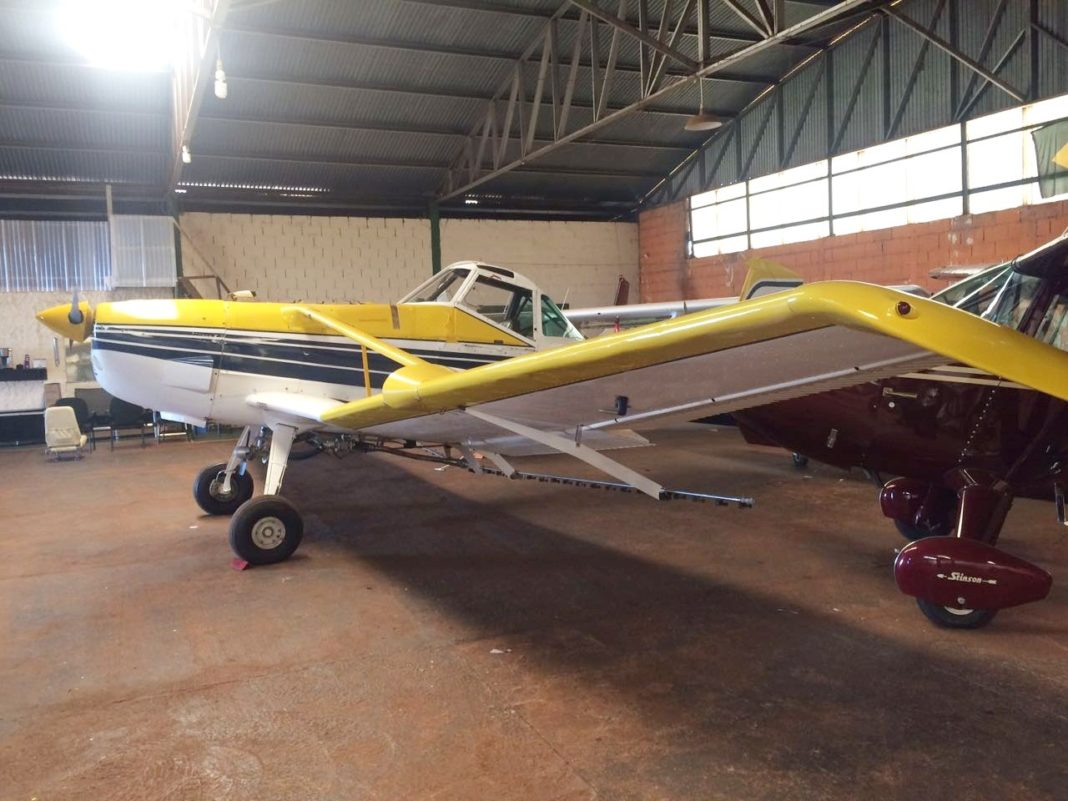Aeronef_de_service: (26, 245, 1067, 582)
